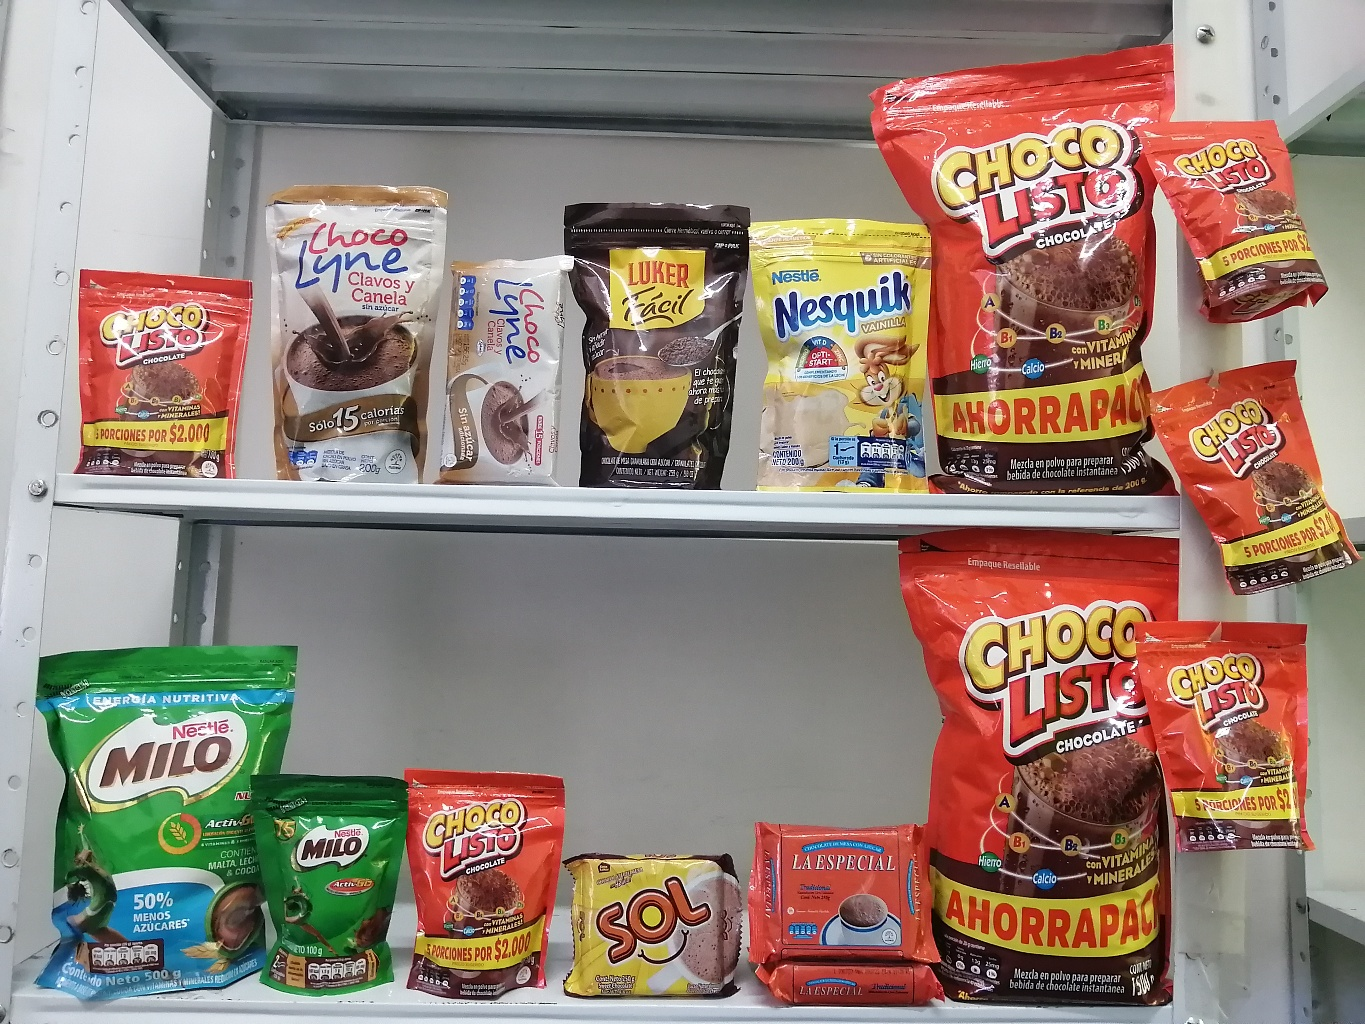COL0170103DYP1,500: (848, 8, 1229, 506)
COL0170203DYP10000: (243, 755, 406, 1016)
COL0170205DYP50000: (20, 601, 294, 1010)
COL0170306DYP20000: (729, 191, 941, 499)
